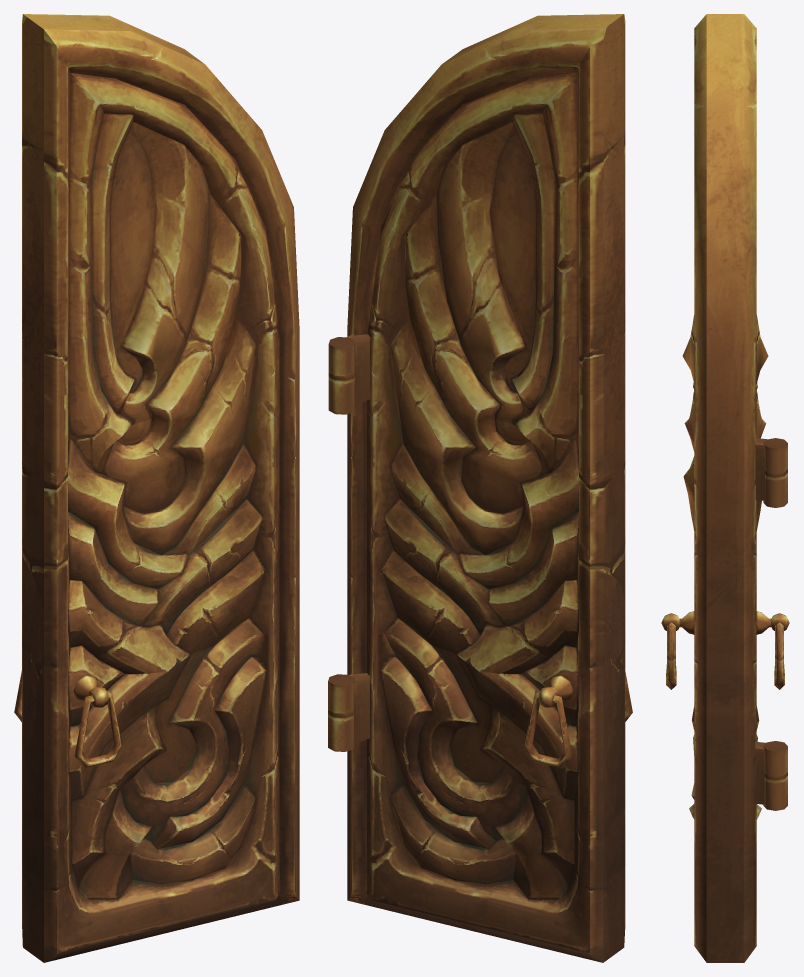
The model's file is Door_Bronze_01.fbx.
3 views of the same model, side by side, from view 1: azimuth 30°, elevation 25°; view 2: azimuth 150°, elevation 25°; view 3: azimuth 270°, elevation 25° (orthographic). The views are drawn at different scales.
Visible parts, largest first — view 1: Door_Bronze_01; view 2: Door_Bronze_01; view 3: Door_Bronze_01.
Boxes of the visible parts, <box> form: Door_Bronze_01: <box>14,14,299,962</box>; Door_Bronze_01: <box>328,14,632,962</box>; Door_Bronze_01: <box>661,14,789,962</box>.
Bounding box in the file's own units: 1.38 × 4.81 × 0.6691.
